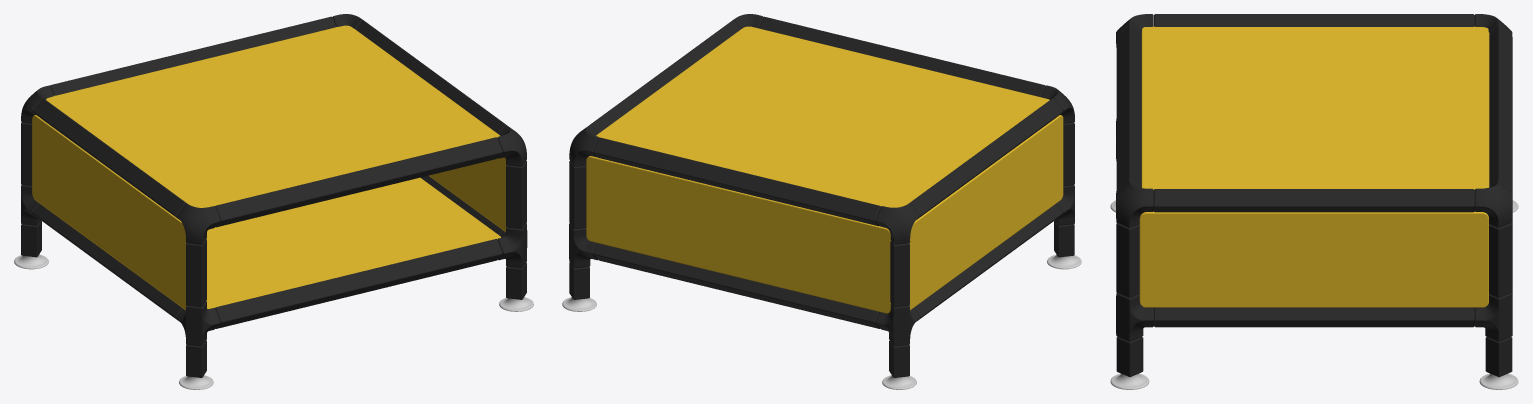
3 views of the same model, side by side, from view 1: azimuth 30°, elevation 25°; view 2: azimuth 150°, elevation 25°; view 3: azimuth 270°, elevation 25° (orthographic). The views are drawn at different scales.
Parts seen in each view (by area): view 1: 374x329x79; view 2: 374x329x79; view 3: 374x329x79.
Boxes of the visible parts, bbox=[...] form: 374x329x79: bbox=[14, 14, 533, 389]; 374x329x79: bbox=[562, 14, 1081, 389]; 374x329x79: bbox=[1110, 14, 1518, 389].
Bounding box in the file's own units: 0.4639 × 0.2183 × 0.4182.
